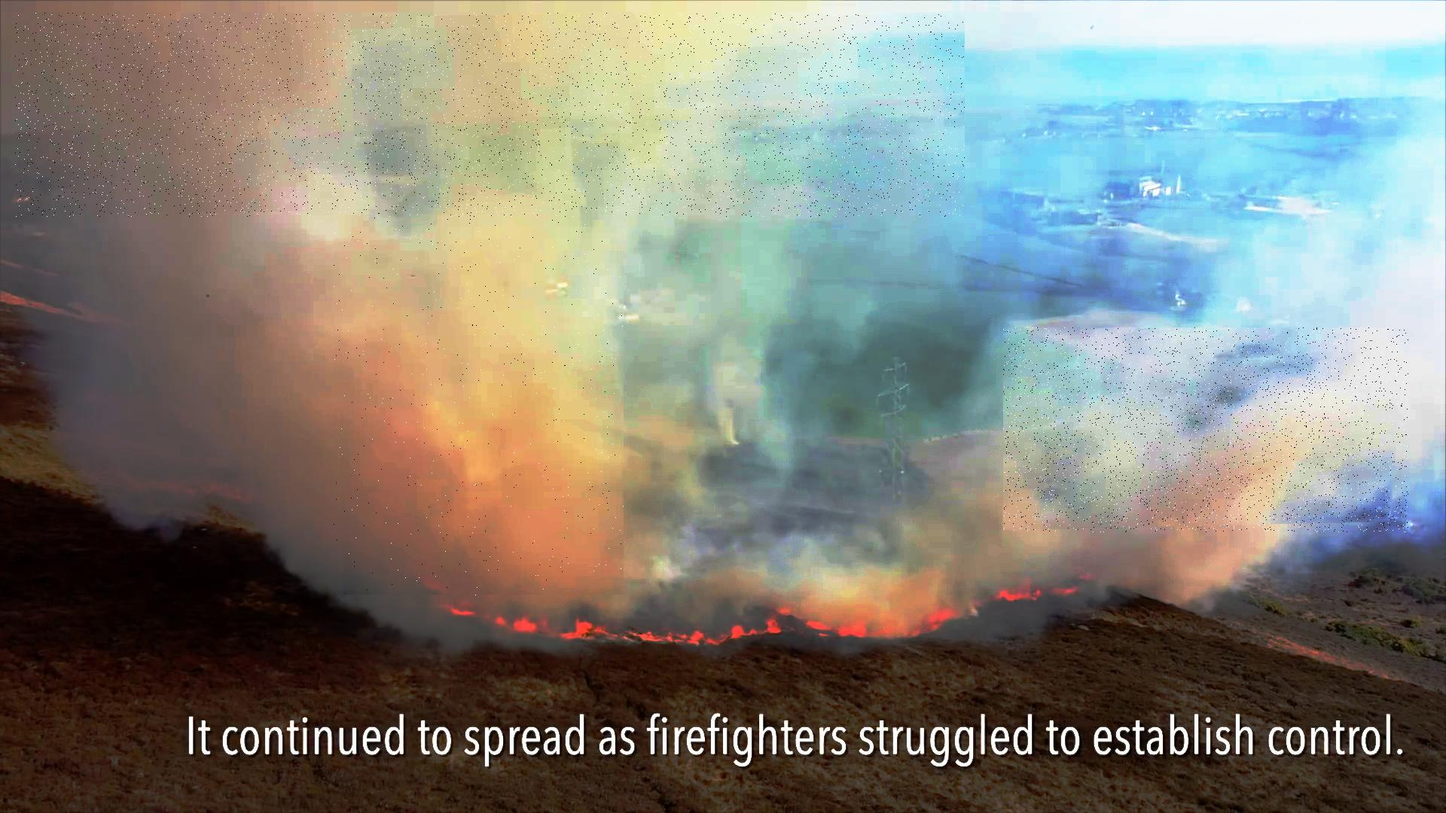smoke: (15, 13, 965, 217), (334, 162, 624, 597), (1004, 328, 1409, 533)
